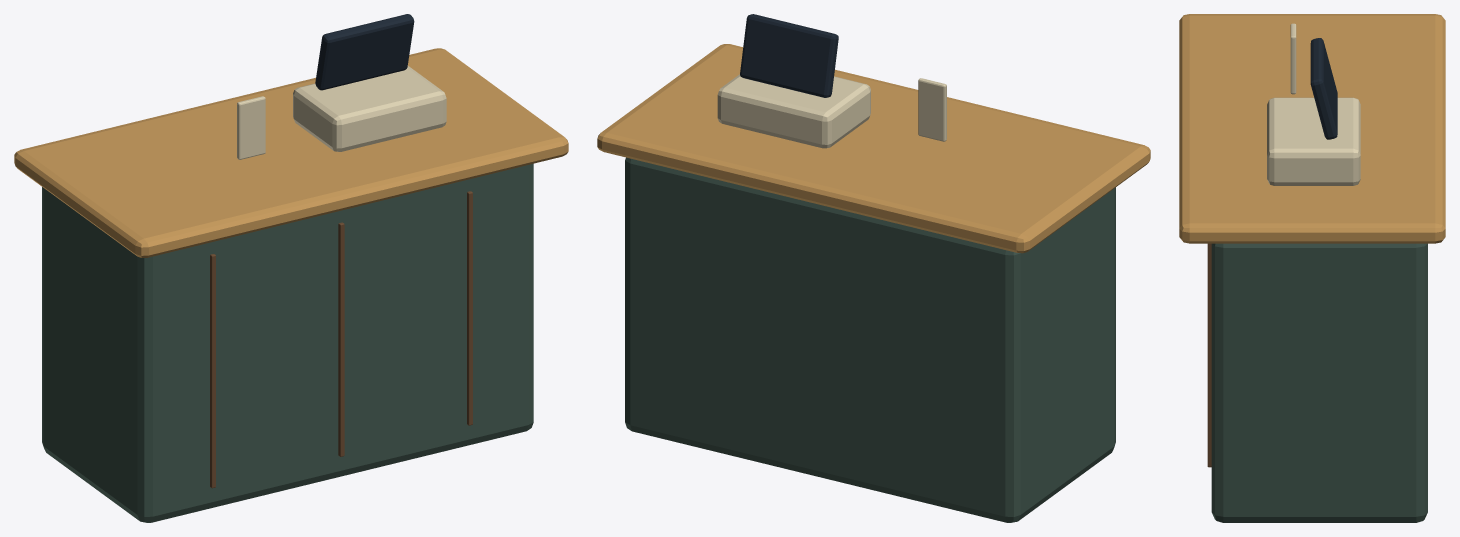
Rendered from counter-thin-s02.glb.
3 renders of one model, left to right at view 1: azimuth 30°, elevation 25°; view 2: azimuth 150°, elevation 25°; view 3: azimuth 270°, elevation 25°, orthographic. The views are drawn at different scales.
Visible parts, largest first — view 1: counter_Palette; view 2: counter_Palette; view 3: counter_Palette.
Part boxes in pixels (left/top/right/bottom): counter_Palette: left=14, top=14, right=568, bottom=522; counter_Palette: left=597, top=14, right=1150, bottom=522; counter_Palette: left=1179, top=14, right=1445, bottom=522.
Size of the model in its own units: 1.75 by 1.54 by 0.91.
